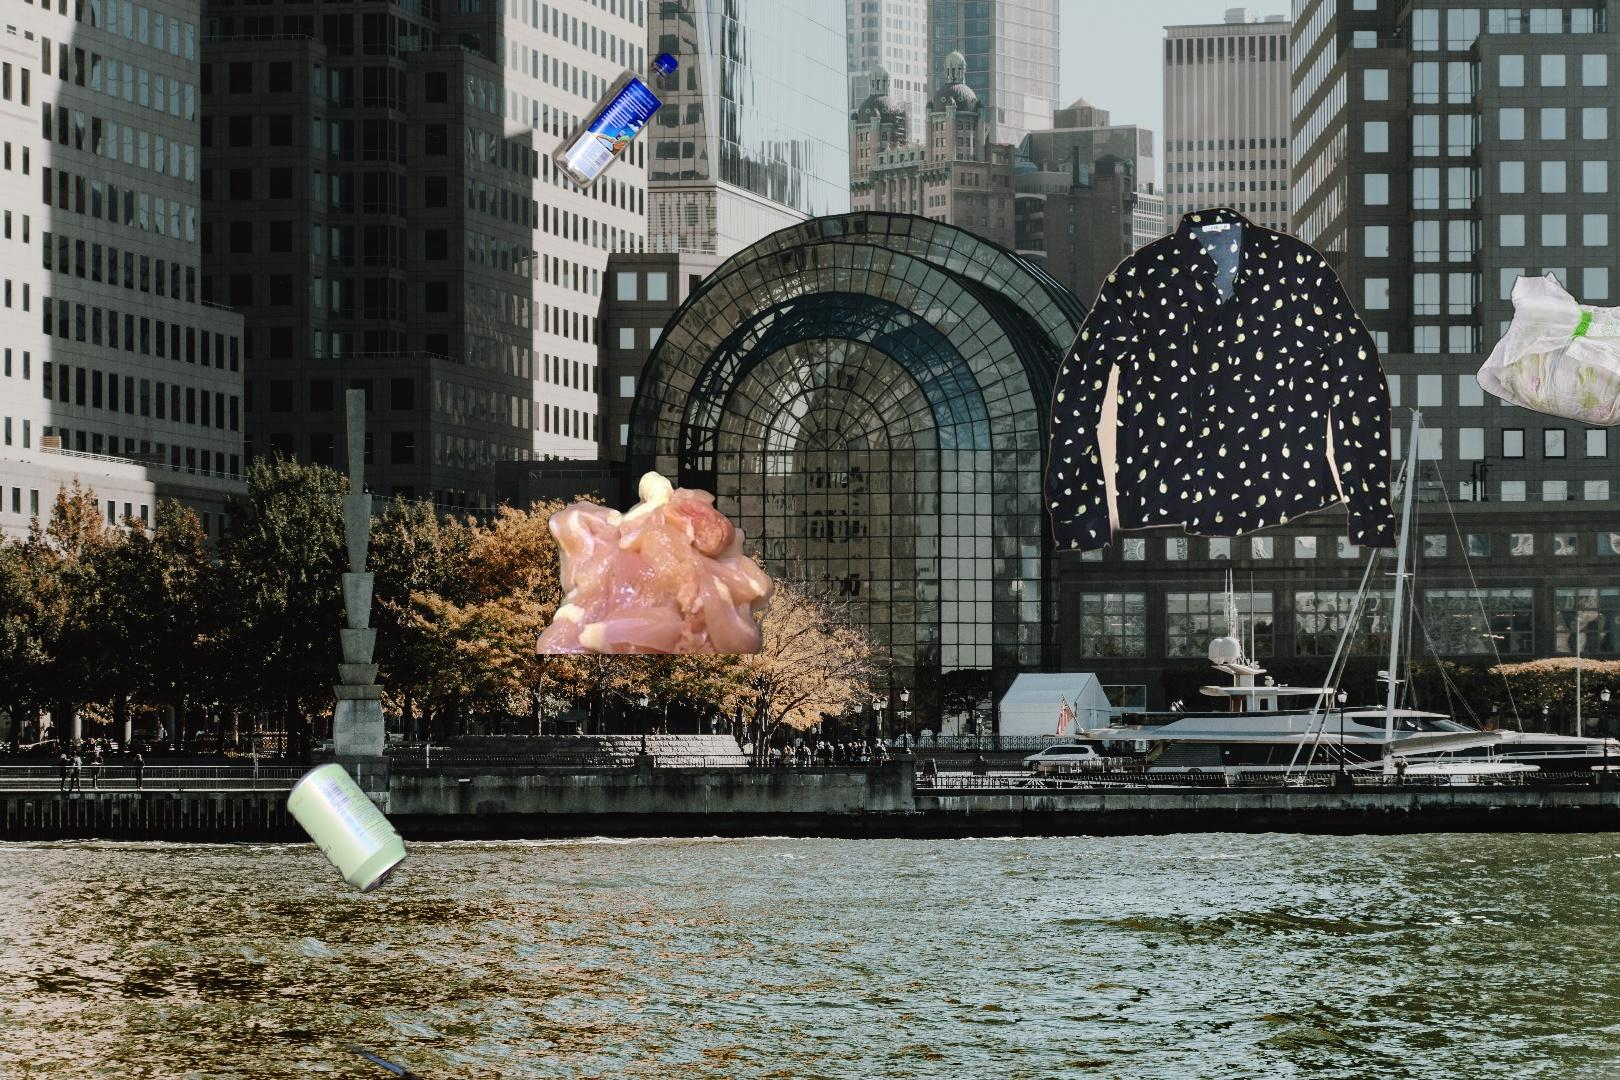biological: (530, 468, 777, 655)
clothes: (1040, 202, 1401, 559)
metal-cans: (283, 757, 565, 1080)
plastic-bottles: (548, 47, 683, 195)
trash: (1473, 269, 1620, 429)
